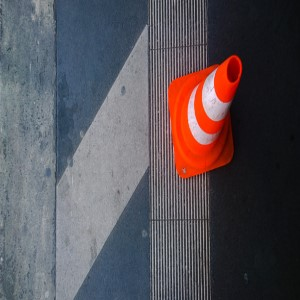traffic cone: (167, 53, 242, 180)
